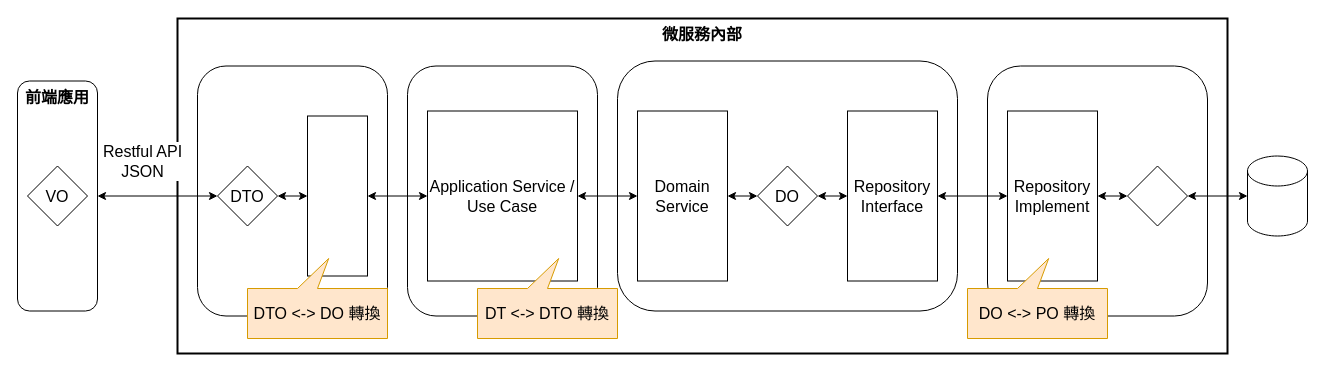
This 1325x371 diagram has some shape labels left out. Here are the shapes that lost their labels. From the top down, the box of each, then its label:
(196, 65, 388, 316): User Interface
(306, 115, 368, 276): Facade
(406, 65, 598, 316): Application Layer
(616, 60, 958, 311): Domain Layer
(986, 65, 1208, 316): Infra Layer
(1126, 165, 1188, 226): PO
